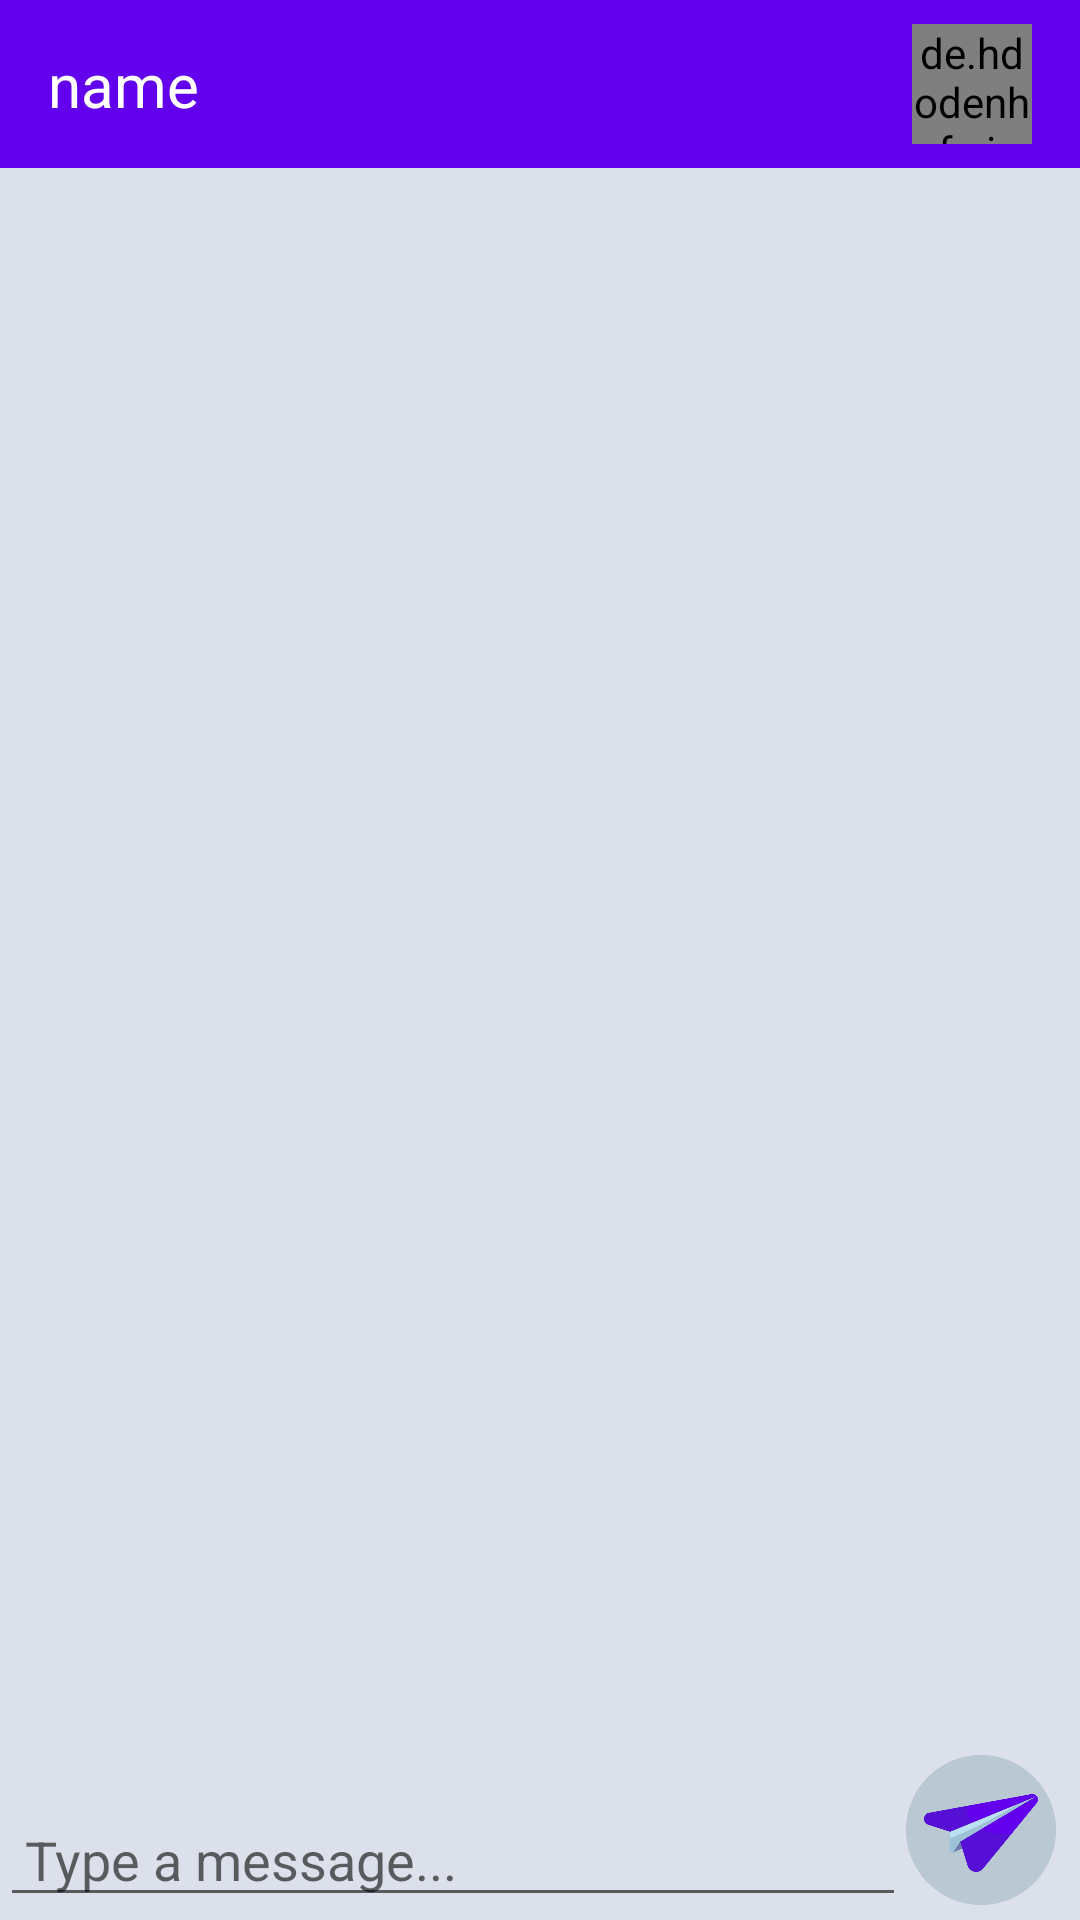

Icons on this 1080w x 1920h Android screen, each with its box as (x1, y1, x2, y2):
send: (906, 1755, 1056, 1905)
